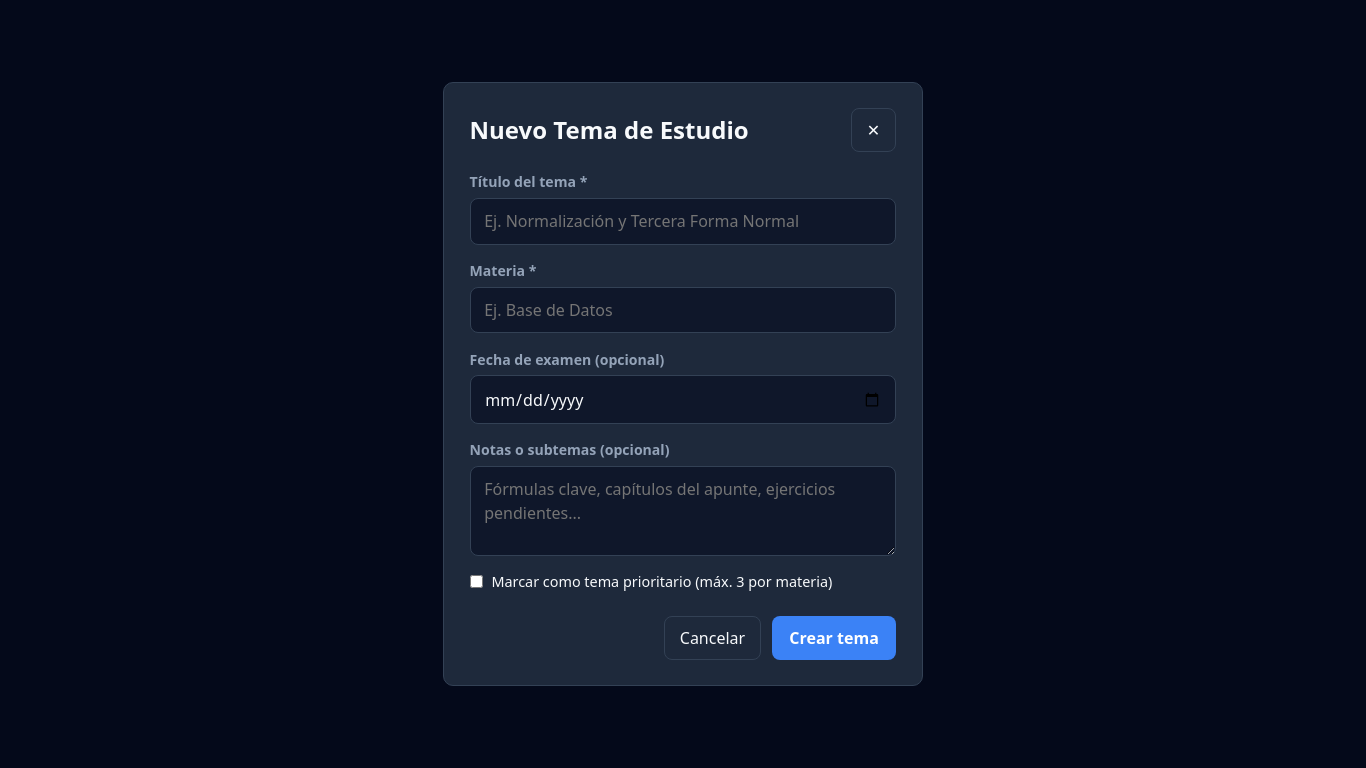
Test: Dashboard — Estados de red (loading, empty, error, success) › muestra error de validación en TopicFormModal al enviar formulario vacío
Click the button "Crear tema". click: (834, 638)
box: left=772, top=616, right=896, bottom=660
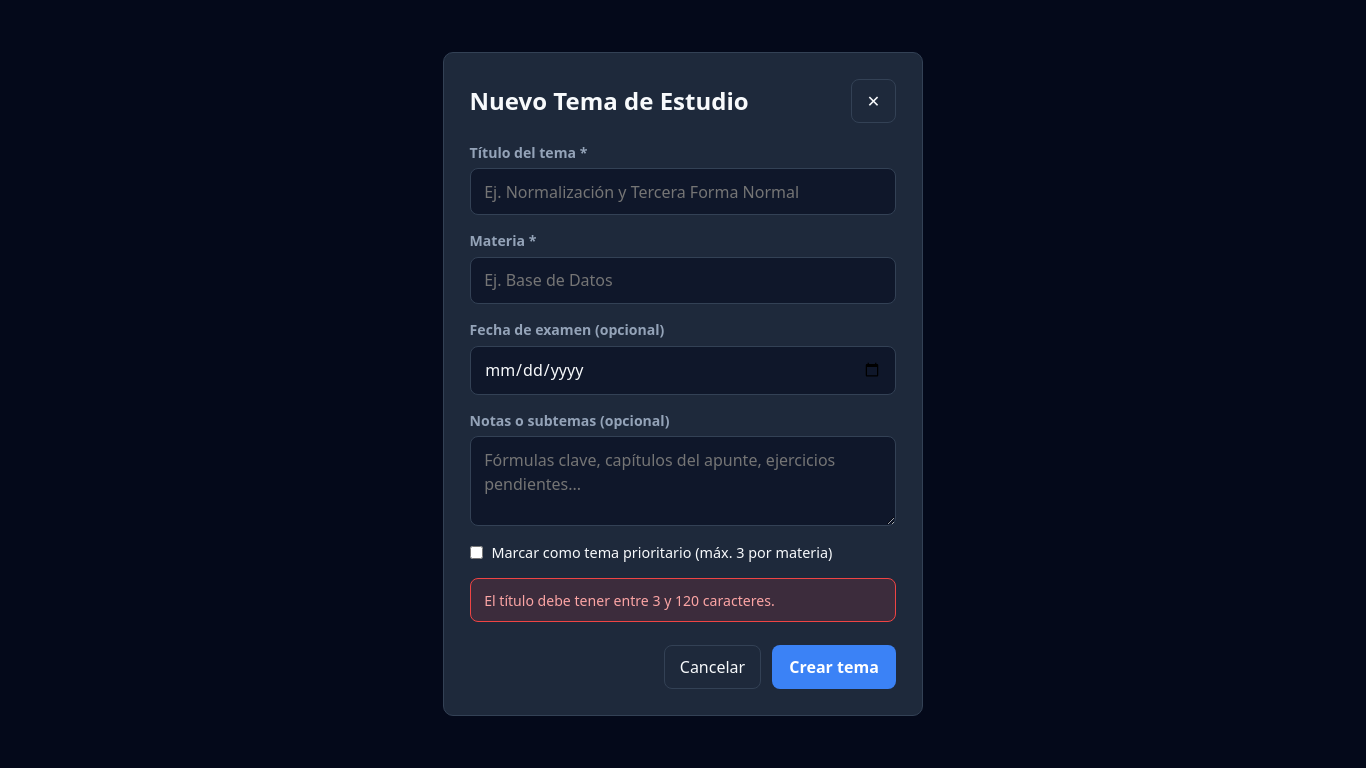
Expected: the message shows "título", left=484, top=591, right=775, bottom=610
